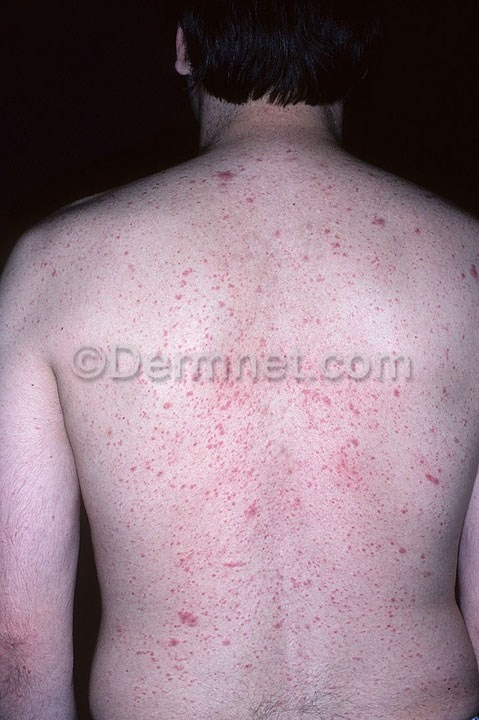Psoriasis: (124, 385, 443, 657), (171, 164, 407, 347)
